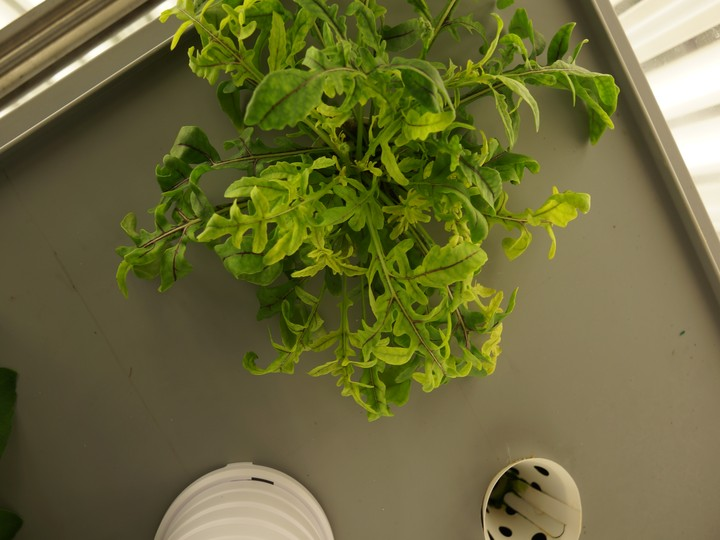roquette_sauvage_red_veined: (113, 2, 641, 436)
